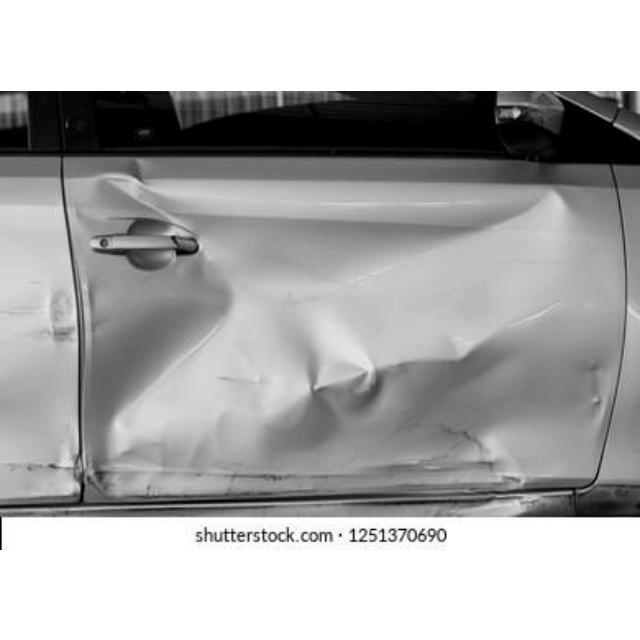Runningboard-Damage: (225, 494, 581, 520)
doorouter-dent: (84, 157, 596, 493), (2, 153, 77, 504)
